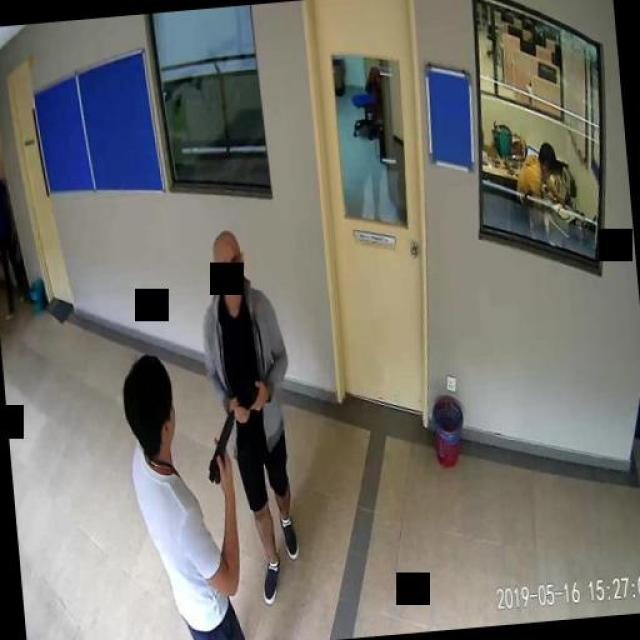gun: (202, 410, 238, 485)
